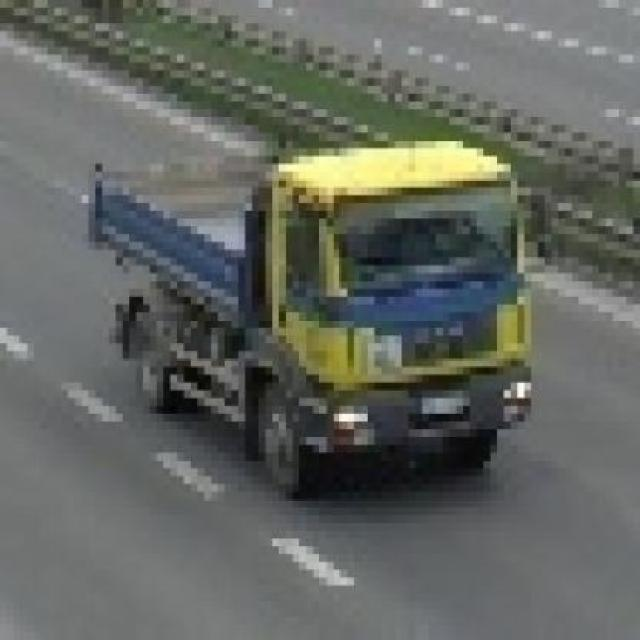truck: (90, 126, 539, 486)
